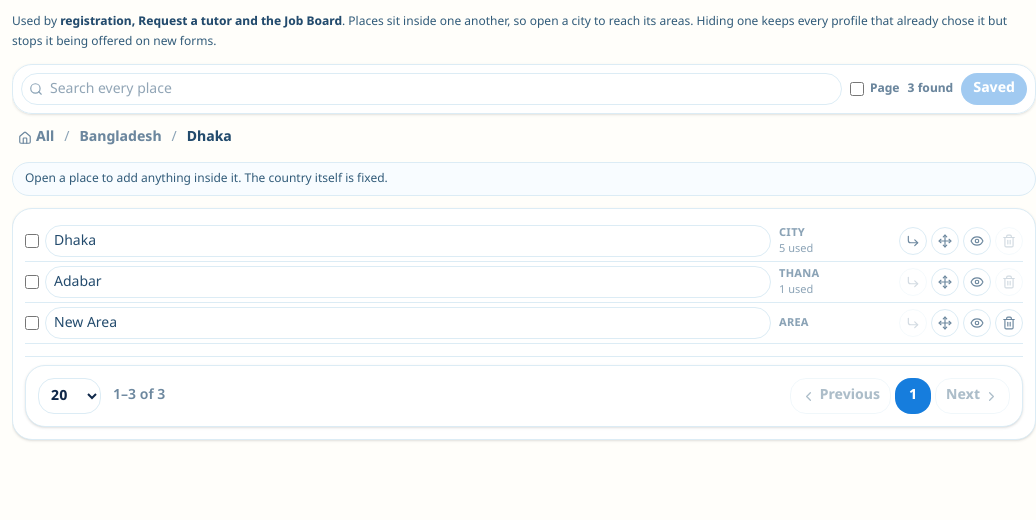
moving a place › picks a place up and says so, without moving anything yet
Click the button named "Move Adabar".
click(945, 282)  # box [931,268,959,296]
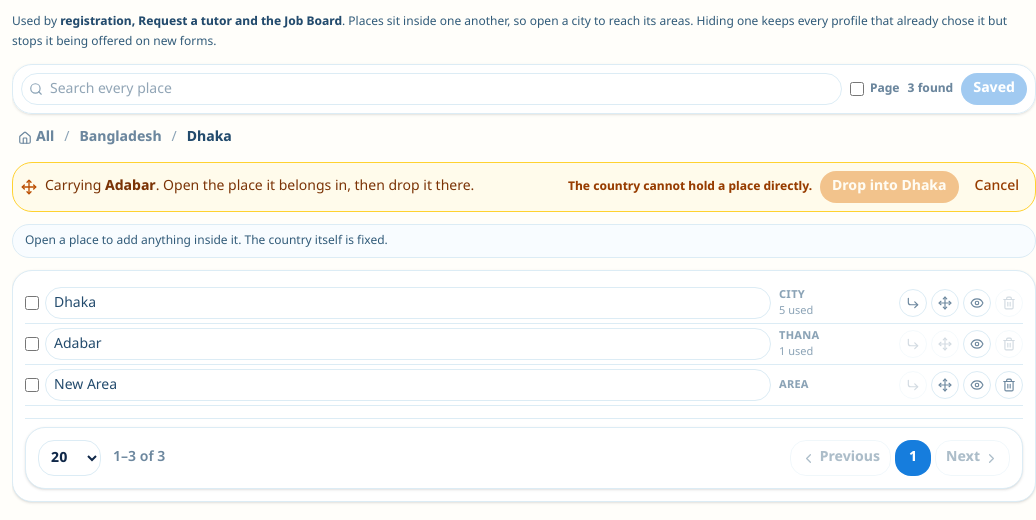
Expected: the text "Carrying" shows "Adabar", [105,177,156,196]
